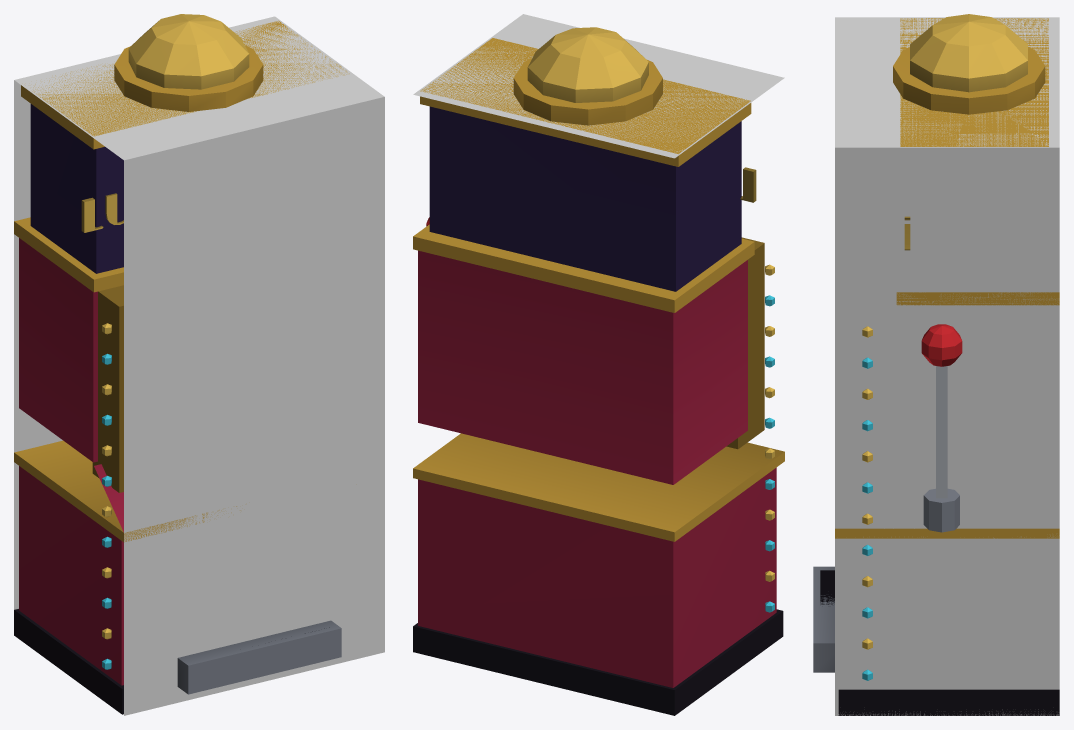
Rendered from slot_duck.glb.
3 renders of one model, left to right at view 1: azimuth 30°, elevation 25°; view 2: azimuth 150°, elevation 25°; view 3: azimuth 270°, elevation 25°, orthographic. The views are drawn at different scales.
Parts seen in each view (by area): view 1: COL_0, slot_duck; view 2: slot_duck, COL_0; view 3: COL_0, slot_duck, DYN_lever.
Part boxes in pixels (x1,y1,x2,y2): COL_0: (14, 16, 384, 715); slot_duck: (14, 14, 349, 714); slot_duck: (413, 27, 784, 715); COL_0: (413, 14, 784, 158); COL_0: (835, 17, 1059, 715); slot_duck: (813, 14, 1059, 715); DYN_lever: (921, 324, 962, 532).
Size of the model in its own units: 2.01 by 3.83 by 1.36.
